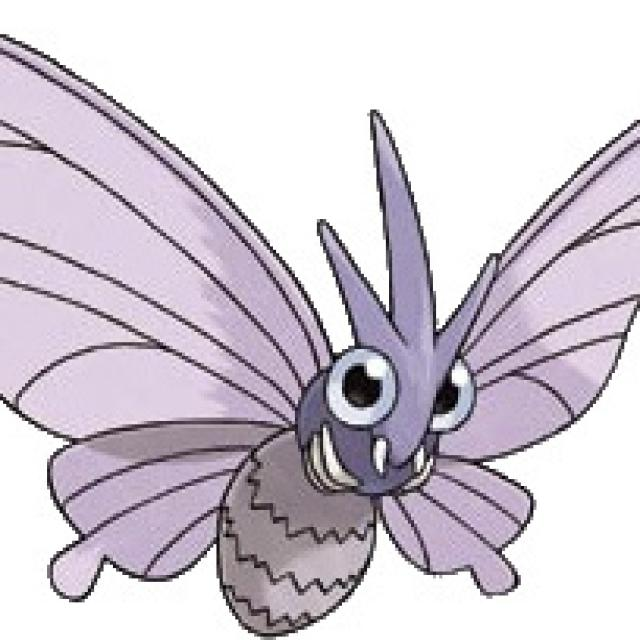Venomoth: (64, 102, 527, 640)
